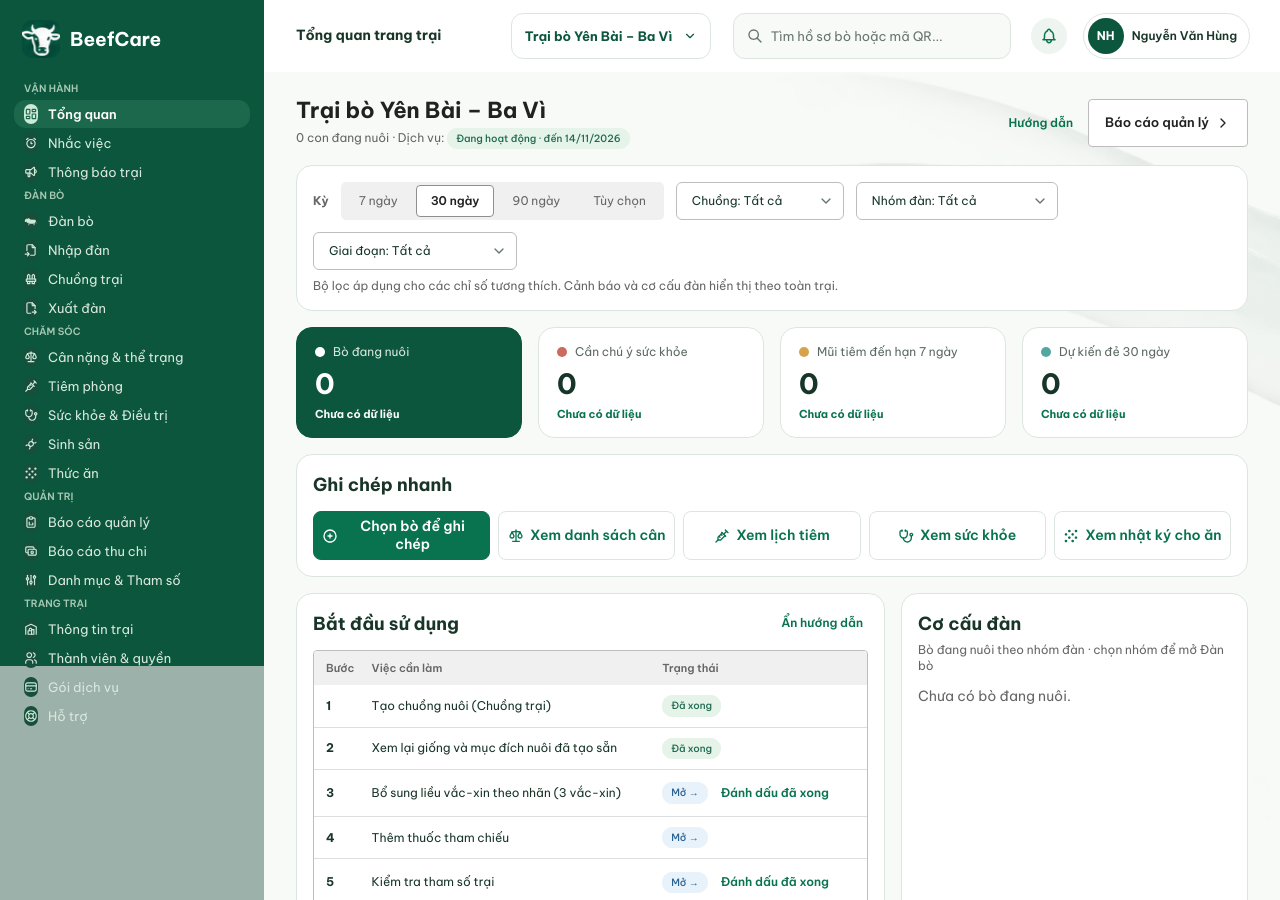
Test: farm dashboard › shows the getting started steps for a new farm, lets the user mark one and hide the panel
The image size is (1280, 900).
Expected: the heading "Bắt đầu sử dụng" is shown, [313,610,459,638]
Expected: the text "0 con đang nuôi" is shown, [296,128,630,149]
Step 1. Click the 1st button "Đánh dấu đã xong" → point(775, 793), box [716,780,834,806]
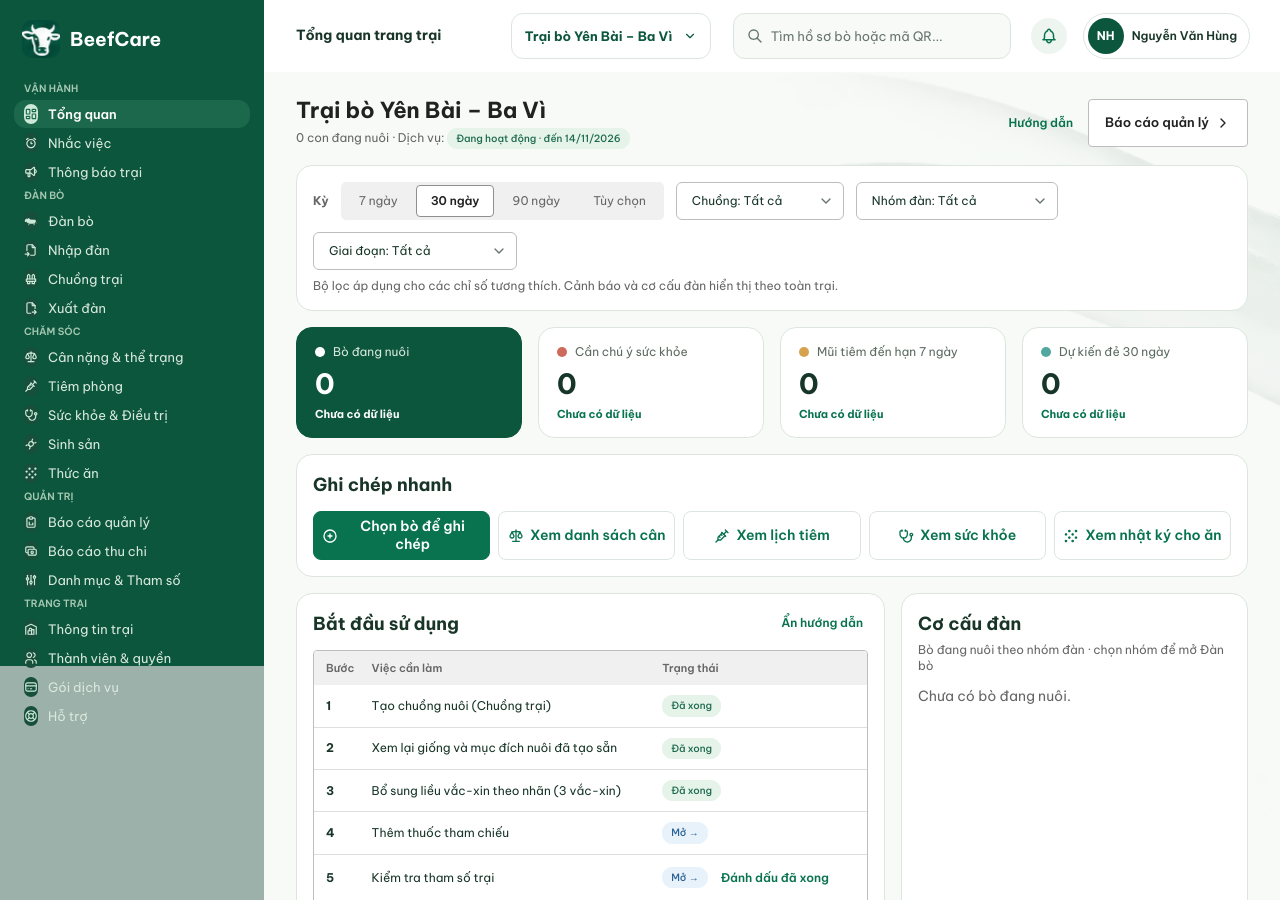
Expected: the text "Đã xong" is shown 3 times, [662,695,721,717]; [662,738,721,759]; [662,780,721,801]
Step 2. Click the button "Ẩn hướng dẫn" → point(822, 623), box [776,610,868,636]
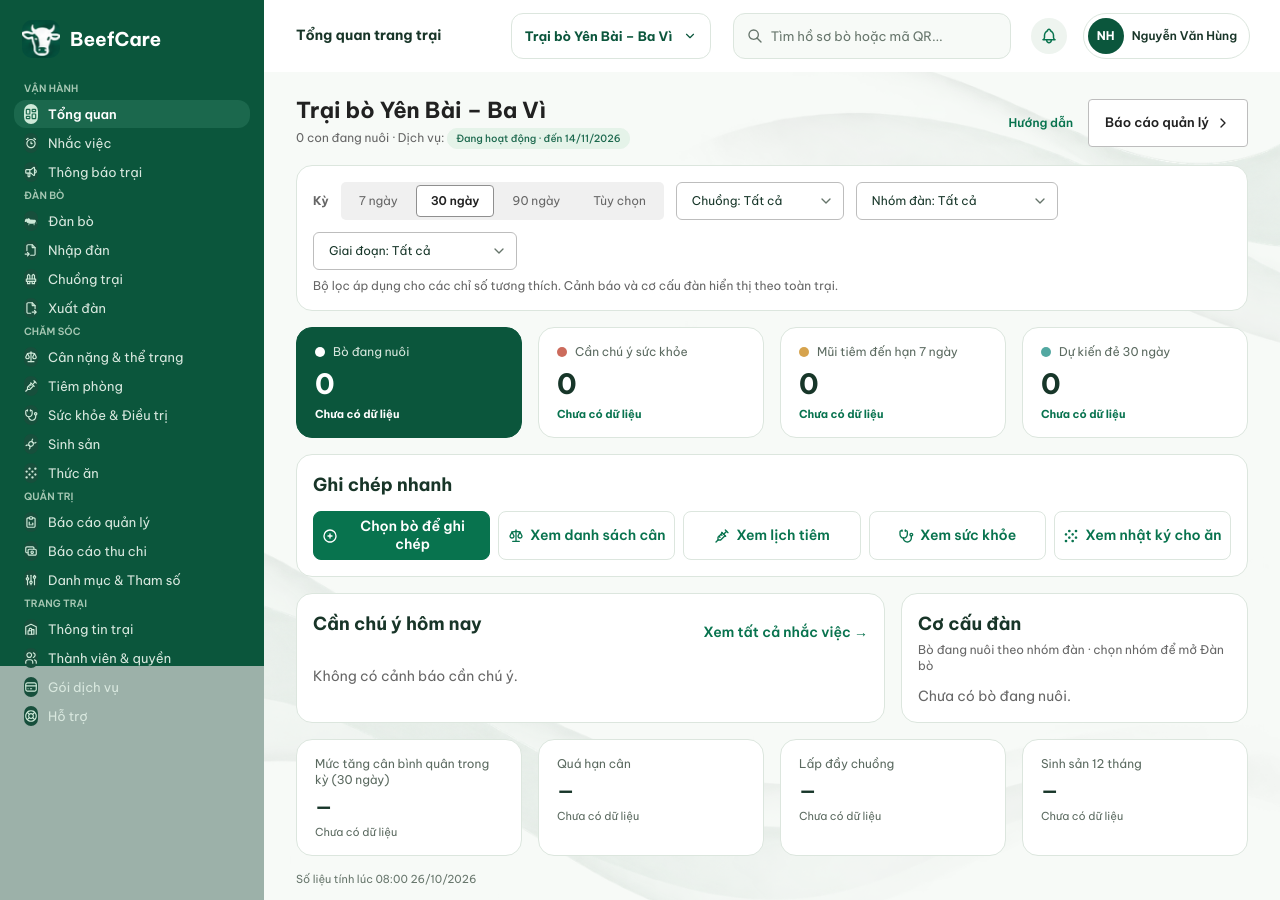
Expected: the element "Cần chú ý hôm nay" shows "Không có cảnh báo cần chú ý.", [313,667,518,685]
Expected: the heading "Bắt đầu sử dụng" is gone
